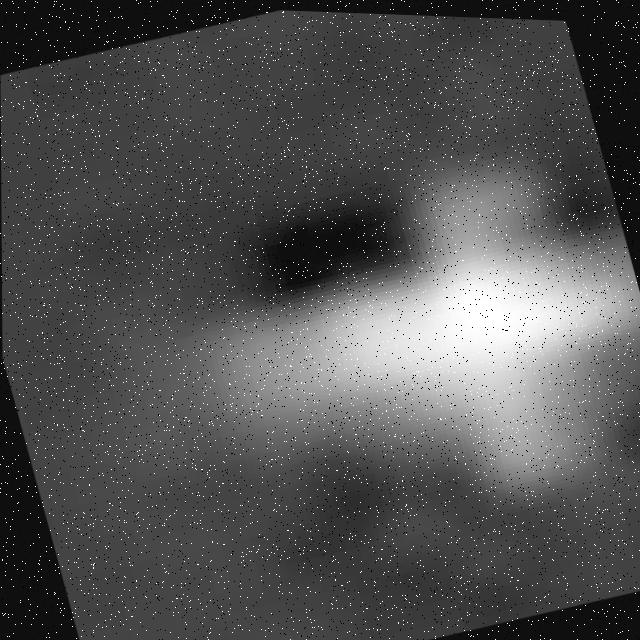person: (190, 151, 640, 548)
